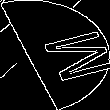M_W: (10, 24, 100, 86)
